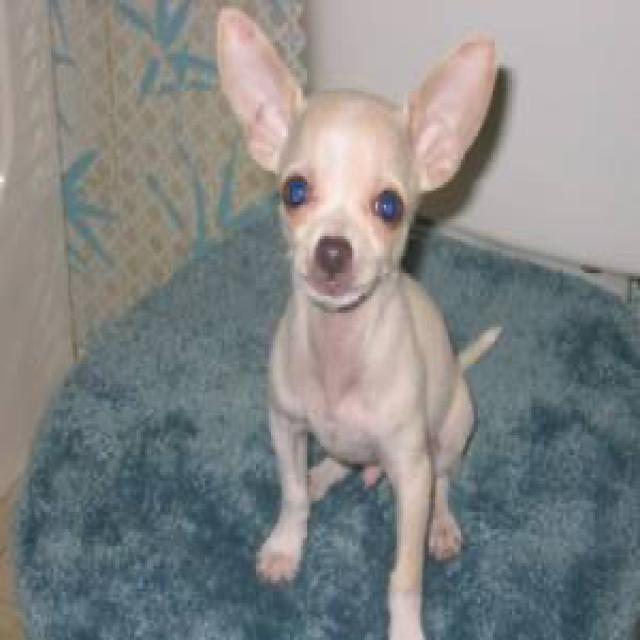dog: (211, 3, 493, 304)
